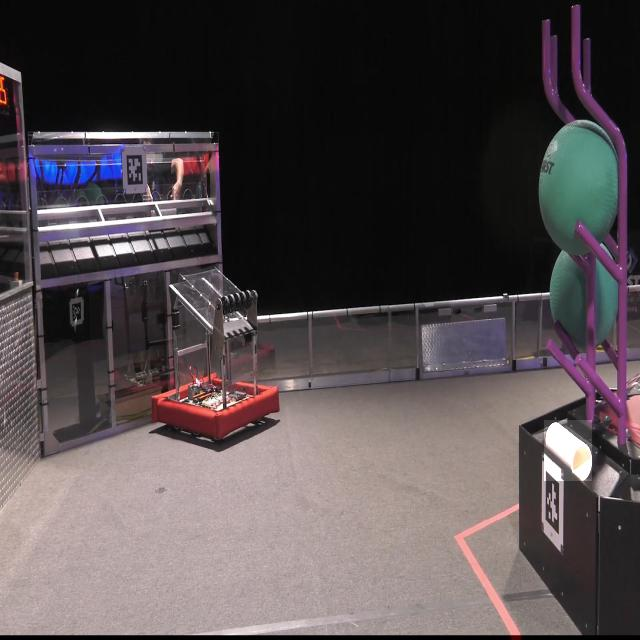Coral: (544, 420, 592, 481)
